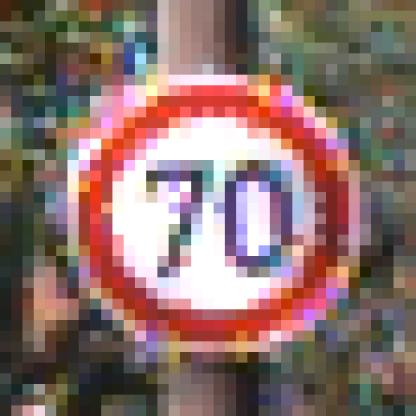Speed Limit 70: (81, 79, 353, 348)
